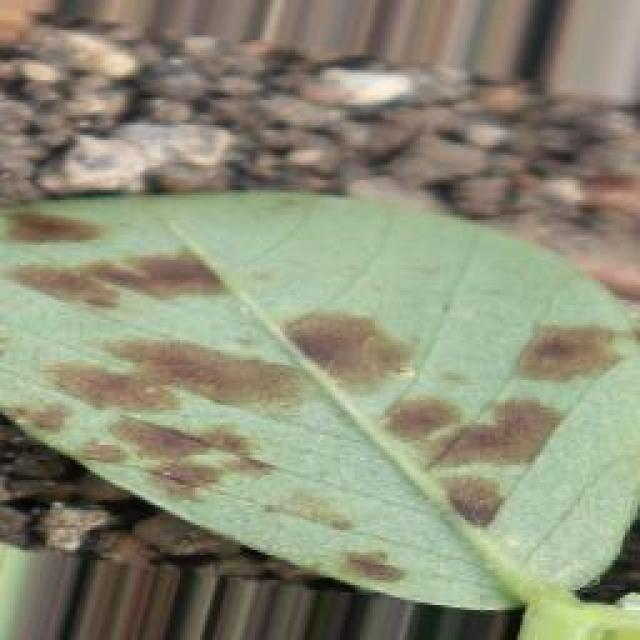Whitefly: (0, 132, 632, 592)
